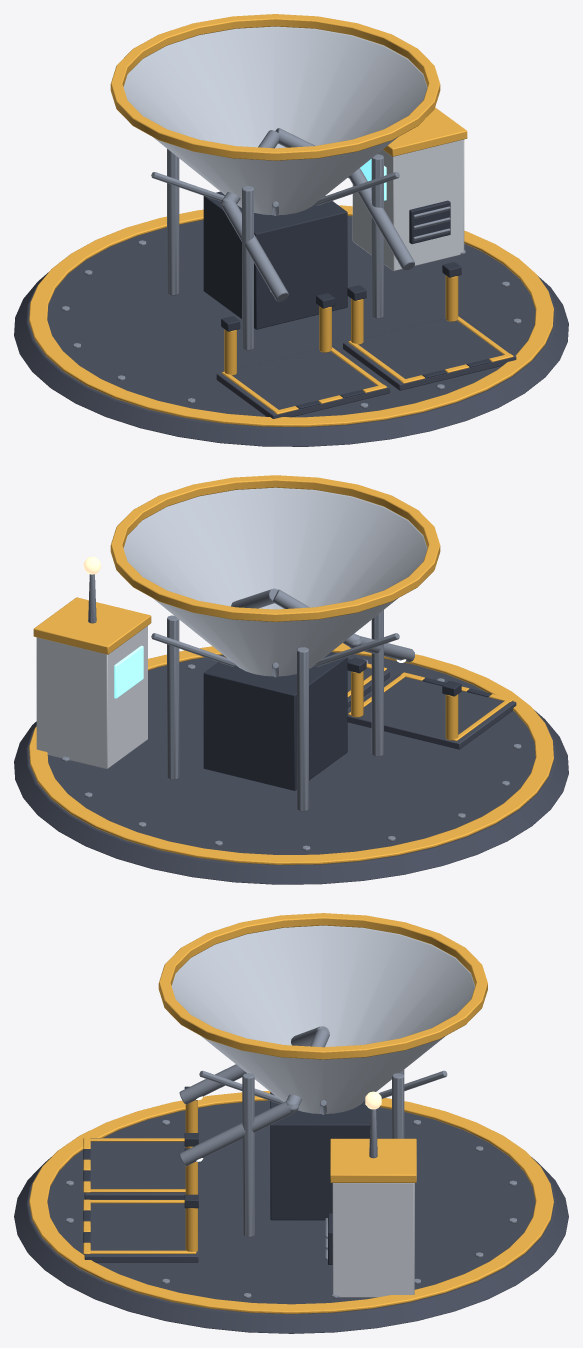
3 renders of one model, top to bottom at view 1: azimuth 30°, elevation 25°; view 2: azimuth 150°, elevation 25°; view 3: azimuth 270°, elevation 25°, orthographic.
Parts seen in each view (by area): view 1: u2_Koerper; view 2: u2_Koerper; view 3: u2_Koerper.
Part boxes in pixels (x1,y1,x2,y2): u2_Koerper: (14,14,568,446); u2_Koerper: (14,475,568,884); u2_Koerper: (14,913,568,1333).
Bounding box in the file's own units: 6.09 × 2.84 × 6.09.
